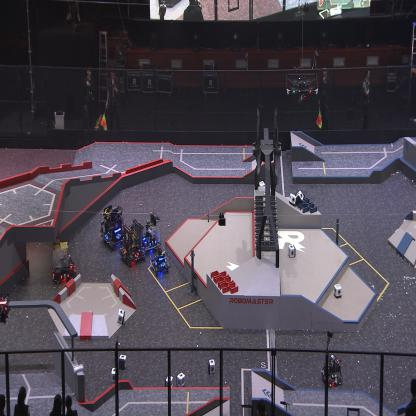car: (100, 202, 128, 250), (119, 218, 146, 266), (50, 237, 76, 284), (140, 210, 162, 256), (148, 241, 172, 276), (320, 353, 344, 388)
